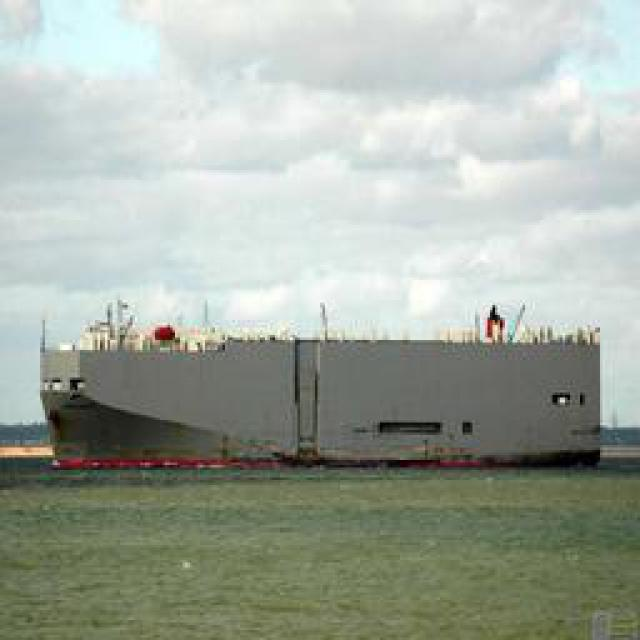Ship: (40, 292, 615, 475)
